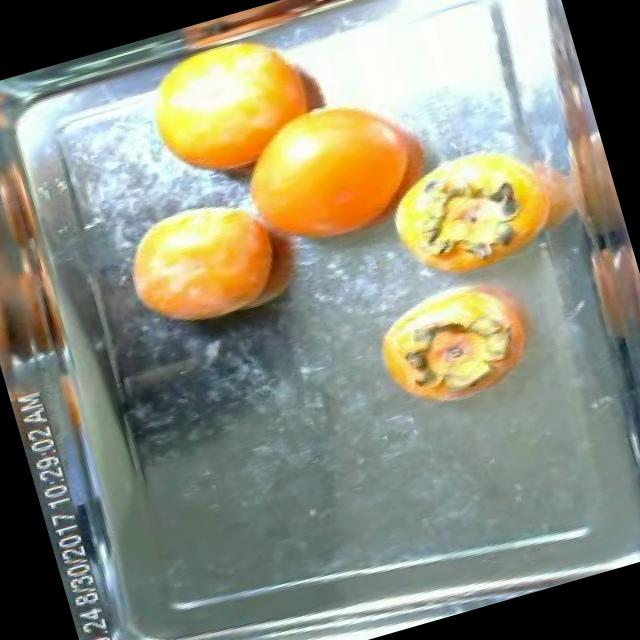Fruit: (119, 12, 362, 208), (99, 166, 309, 357), (355, 259, 555, 429)
